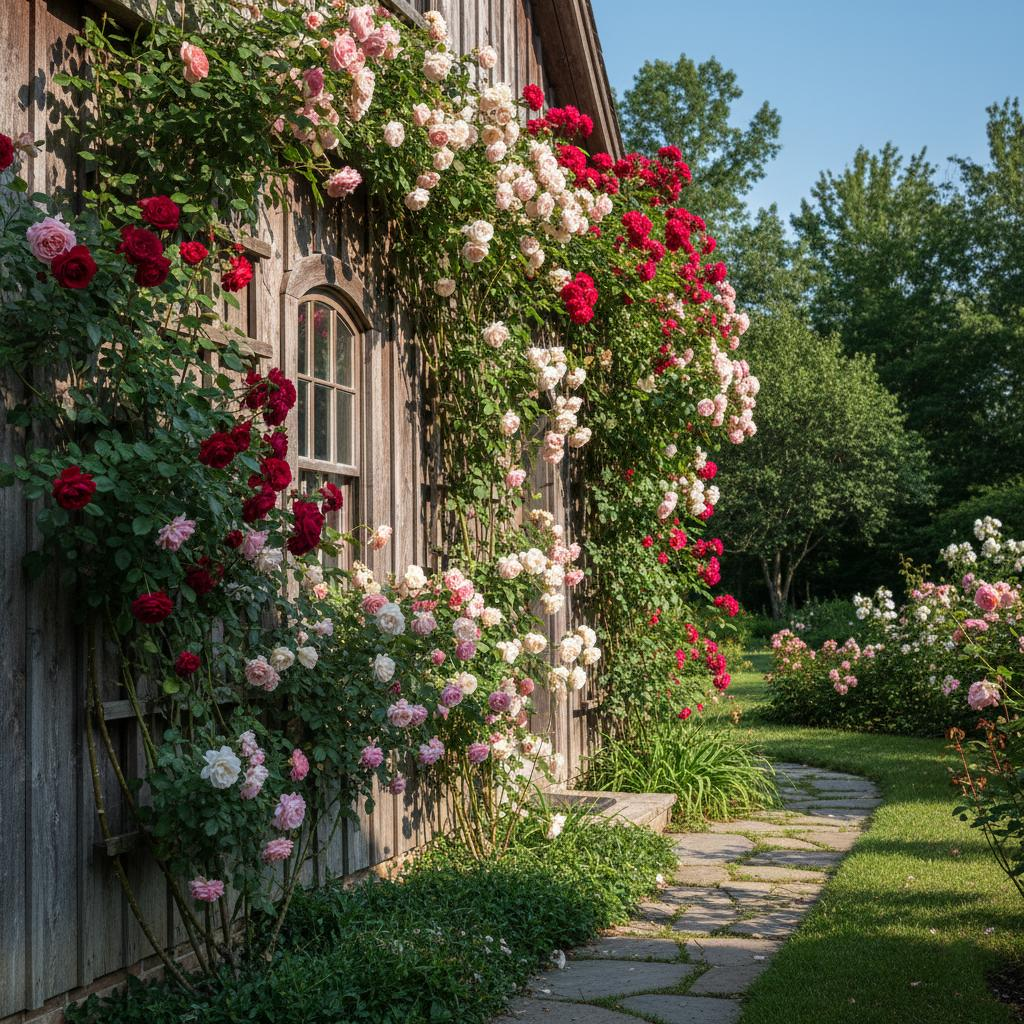rose: (3, 2, 764, 961)
